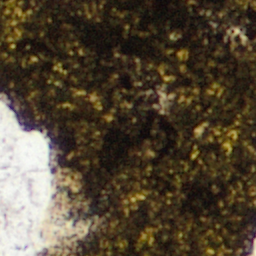cement_matrix: (0, 0, 255, 255)
gravel_crushed_stones: (0, 95, 90, 255), (248, 236, 255, 255)
